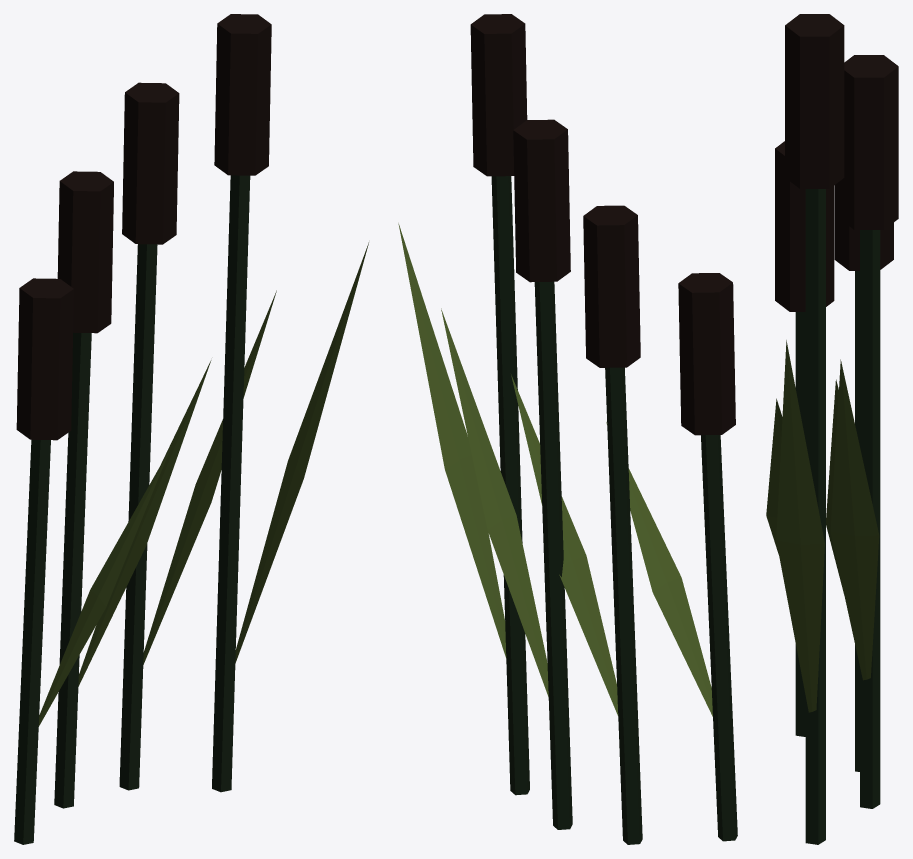
File: Plant_Cattail_01.fbx
The picture shows the model from 3 angles, left to right: view 1: azimuth 30°, elevation 25°; view 2: azimuth 150°, elevation 25°; view 3: azimuth 270°, elevation 25°; orthographic projection. The views are drawn at different scales.
Visible parts, largest first — view 1: Plant_Cattail_01_Mesh; view 2: Plant_Cattail_01_Mesh; view 3: Plant_Cattail_01_Mesh.
Boxes of the visible parts, <box> form: Plant_Cattail_01_Mesh: <box>14,14,368,844</box>; Plant_Cattail_01_Mesh: <box>398,14,737,844</box>; Plant_Cattail_01_Mesh: <box>766,14,898,844</box>.
Bounding box in the file's own units: 0.6152 × 1.29 × 0.1875.
Materials: 1 (1 with a texture image).
